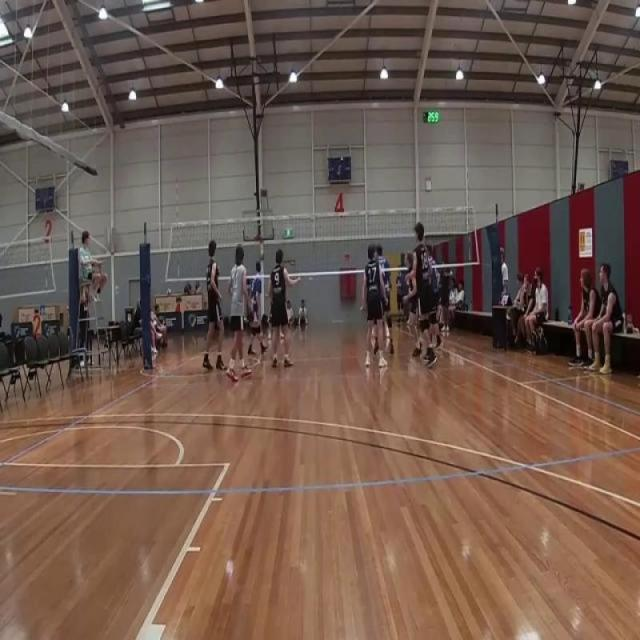volleyball: (165, 287, 172, 298)
